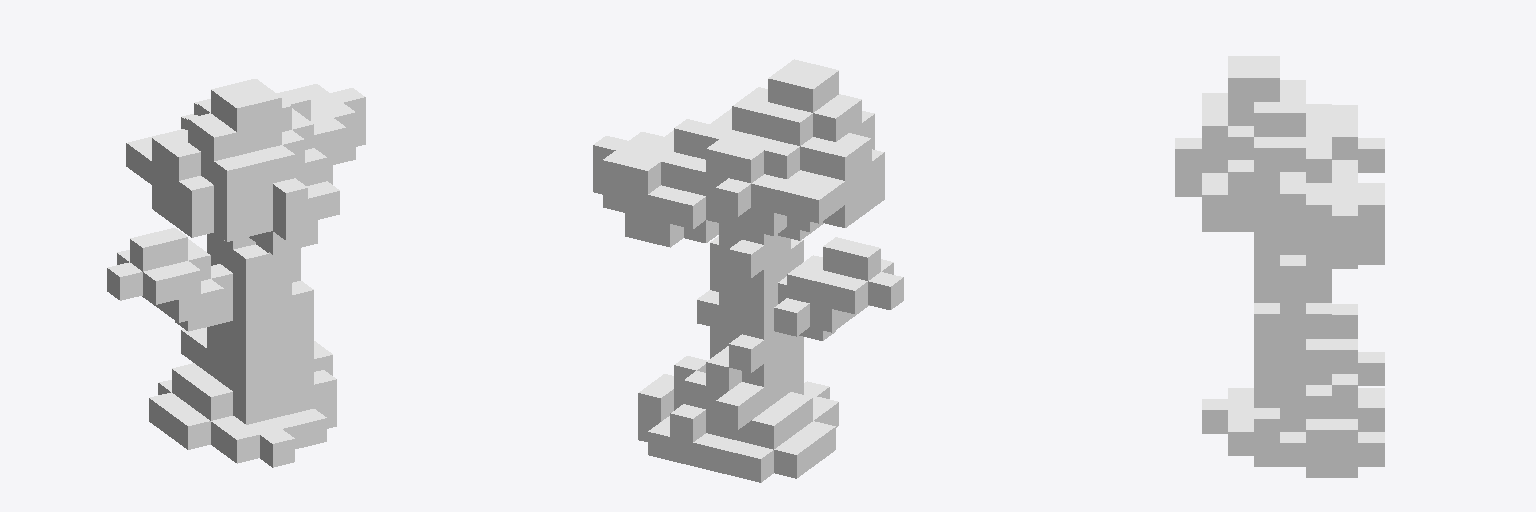
File: Tree-2.obj
The picture shows the model from 3 angles: view 1: azimuth 30°, elevation 25°; view 2: azimuth 150°, elevation 25°; view 3: azimuth 270°, elevation 25°; orthographic projection.
Visible parts, largest first — view 1: object 1; view 2: object 1; view 3: object 1.
Part boxes in pixels (bbox=[...]): object 1: bbox=[107, 79, 365, 467]; object 1: bbox=[593, 59, 903, 482]; object 1: bbox=[1175, 56, 1384, 477].
Size of the model in its own units: 1.2 by 1.5 by 0.8.